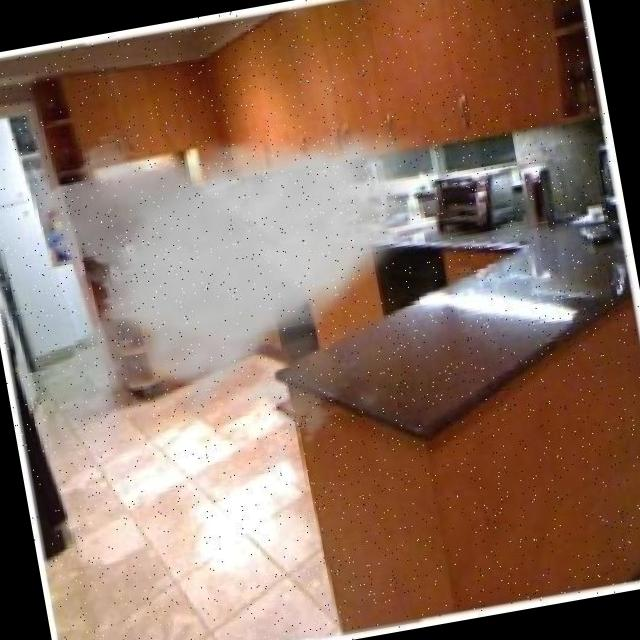Smoke: (82, 72, 454, 388)
